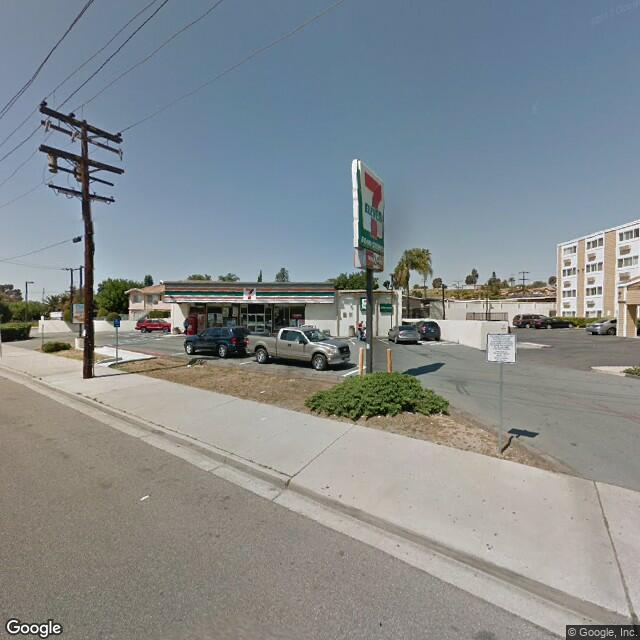litter: (135, 492, 149, 506)
